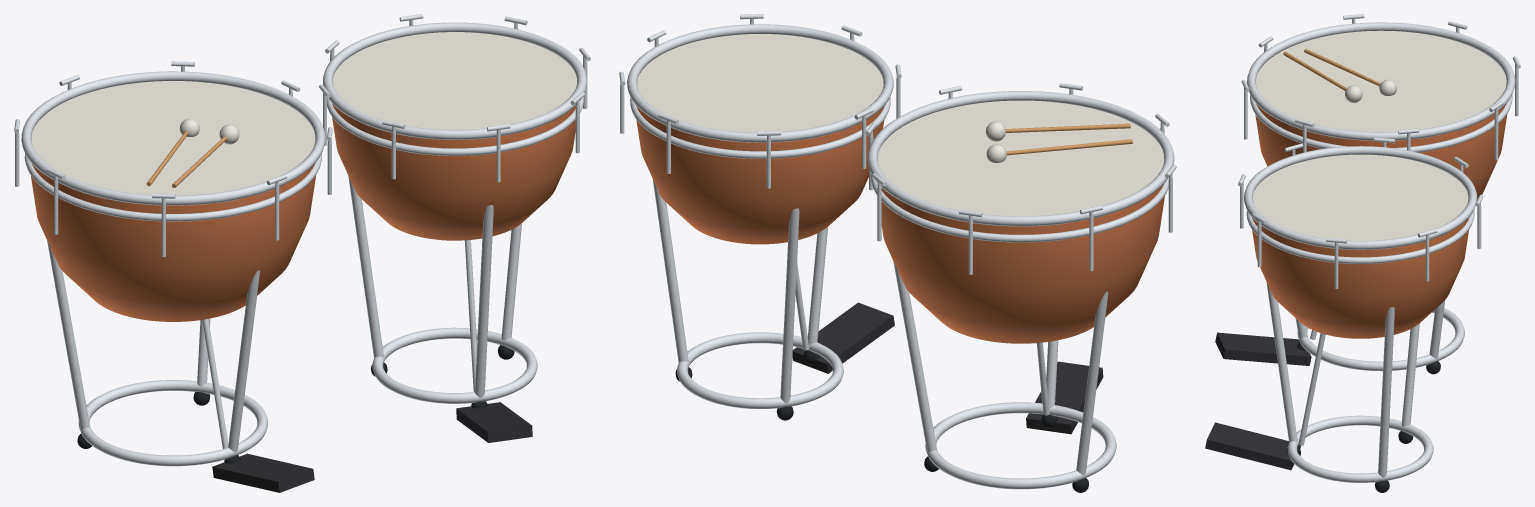
Rendered from timbales.glb.
3 renders of one model, left to right at view 1: azimuth 30°, elevation 25°; view 2: azimuth 150°, elevation 25°; view 3: azimuth 270°, elevation 25°, orthographic. The views are drawn at different scales.
Visible parts, largest first — view 1: Timbales; view 2: Timbales; view 3: Timbales.
Boxes of the visible parts, bbox=[...] form: Timbales: bbox=[14, 14, 590, 492]; Timbales: bbox=[619, 14, 1176, 492]; Timbales: bbox=[1205, 14, 1520, 492].
Bounding box in the file's own units: 1.56 × 0.906 × 0.9178.
